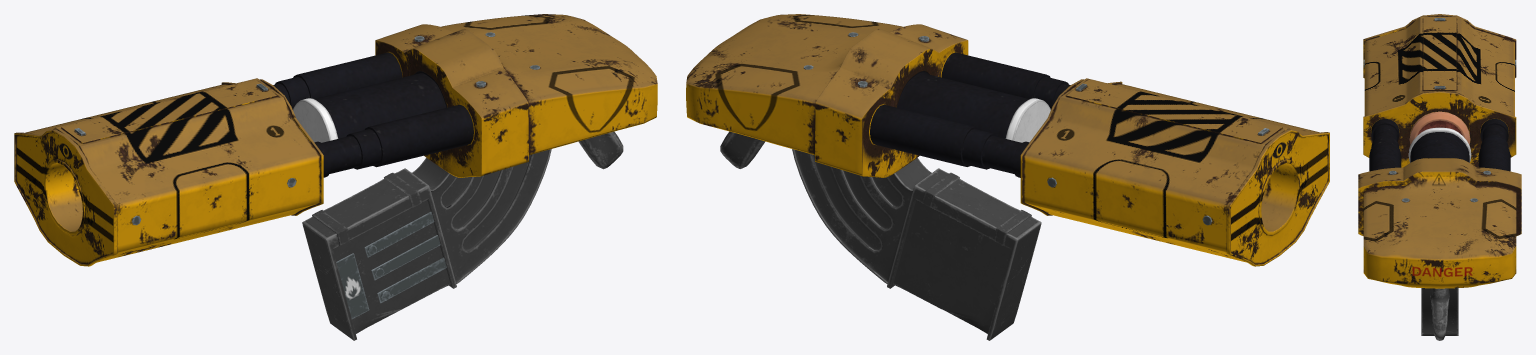
File: flak_cannon.glb
3 renders of one model, left to right at view 1: azimuth 30°, elevation 25°; view 2: azimuth 150°, elevation 25°; view 3: azimuth 270°, elevation 25°, orthographic. The views are drawn at different scales.
Visible parts, largest first — view 1: pCylinder12; view 2: pCylinder12; view 3: pCylinder12.
Boxes of the visible parts, bbox=[...] form: pCylinder12: bbox=[14, 14, 657, 340]; pCylinder12: bbox=[686, 14, 1329, 340]; pCylinder12: bbox=[1358, 14, 1521, 340].
Bounding box in the file's own units: 29.08 × 13.08 × 9.53.
1 material, 1 textured.
